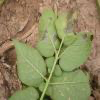Potato leaf late blight: (57, 30, 94, 73), (36, 8, 61, 59), (56, 11, 79, 47)
